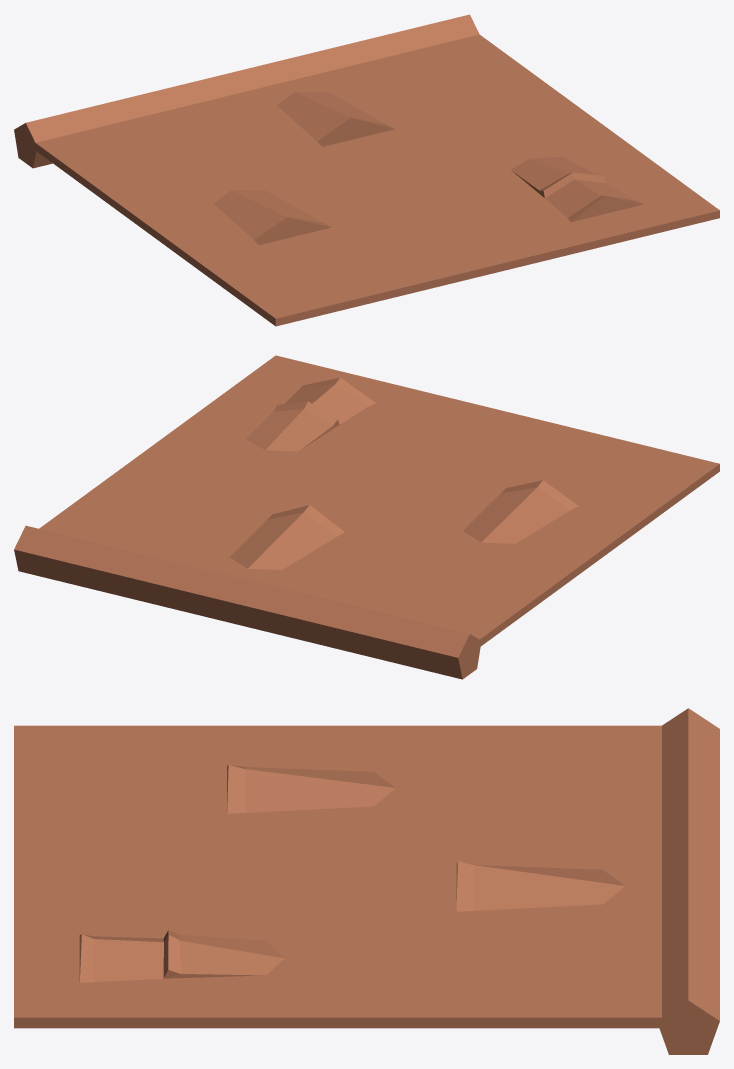
File: empire-roof-inner-3x3m-joint-empire.glb
3 renders of one model, top to bottom at view 1: azimuth 30°, elevation 25°; view 2: azimuth 150°, elevation 25°; view 3: azimuth 270°, elevation 25°, orthographic. The views are drawn at different scales.
Visible parts, largest first — view 1: SM_Roof_Inner_3x3m_Joint_Empire; view 2: SM_Roof_Inner_3x3m_Joint_Empire; view 3: SM_Roof_Inner_3x3m_Joint_Empire.
Part boxes in pixels (<box>): SM_Roof_Inner_3x3m_Joint_Empire: <box>14,14,719,326</box>; SM_Roof_Inner_3x3m_Joint_Empire: <box>14,355,719,679</box>; SM_Roof_Inner_3x3m_Joint_Empire: <box>14,708,719,1054</box>.
Size of the model in its own units: 3 by 0.3024 by 3.06.
